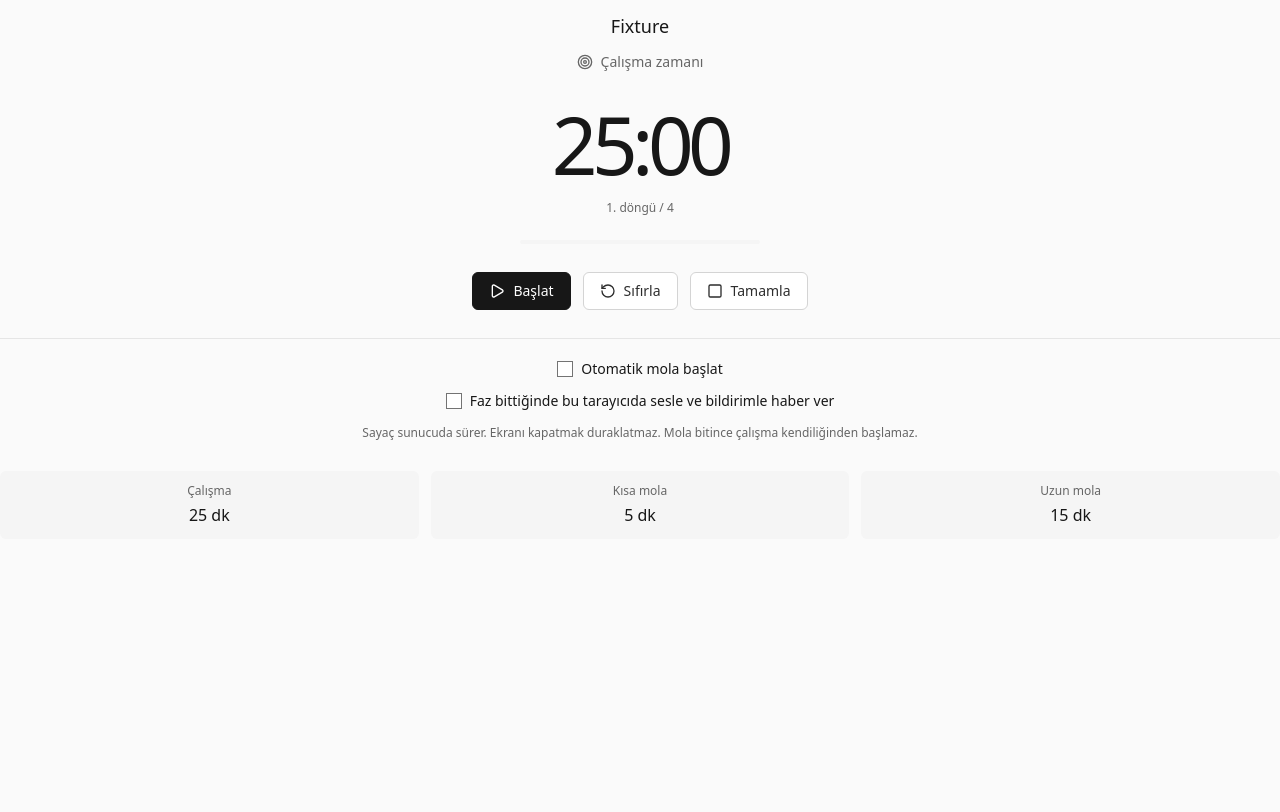
Scenario: keeps a rejected start stopped and allows a deliberate retry after refetch
Click the button with aria-label "Sayacı başlat": x=522, y=291 [472,272,571,310]
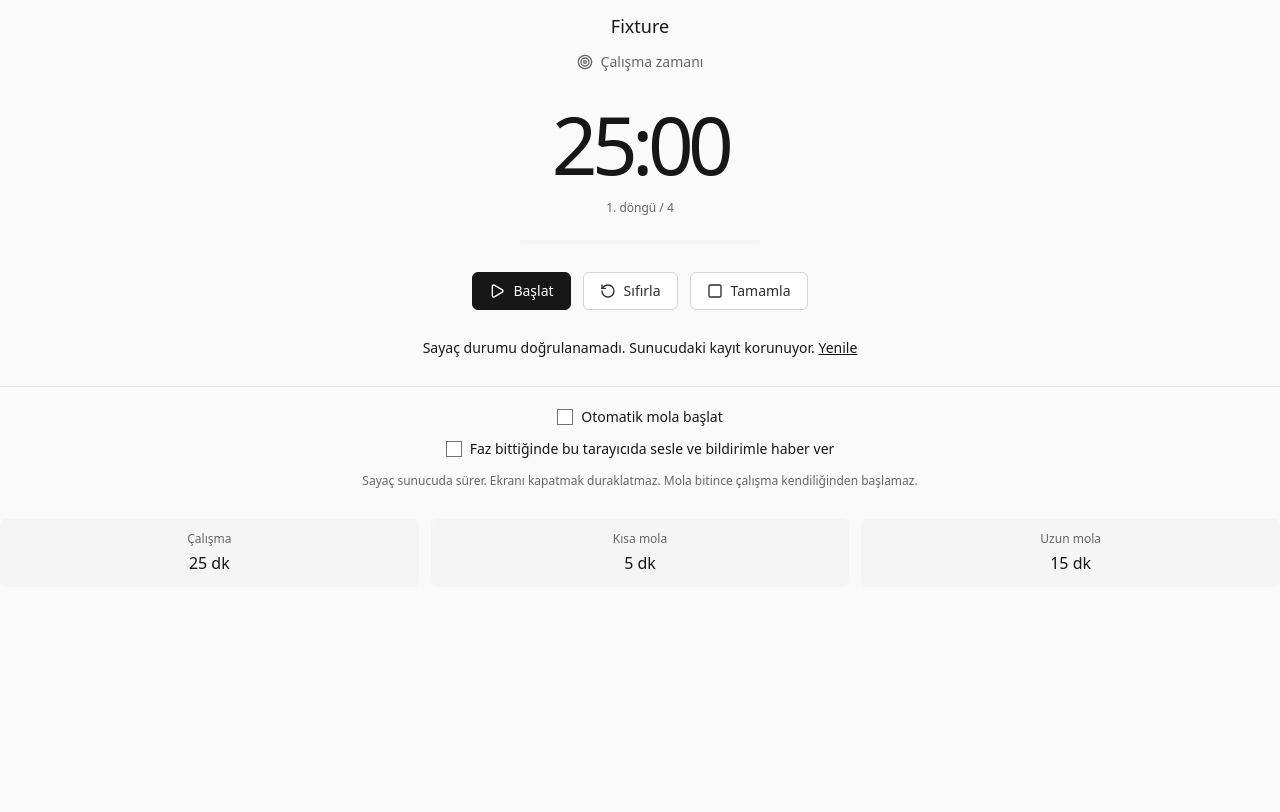
Expected: the message "Sayaç durumu doğrulanamadı. Sunucudaki kayıt korunuyor. Yenile" is shown, [423,338,857,358]
